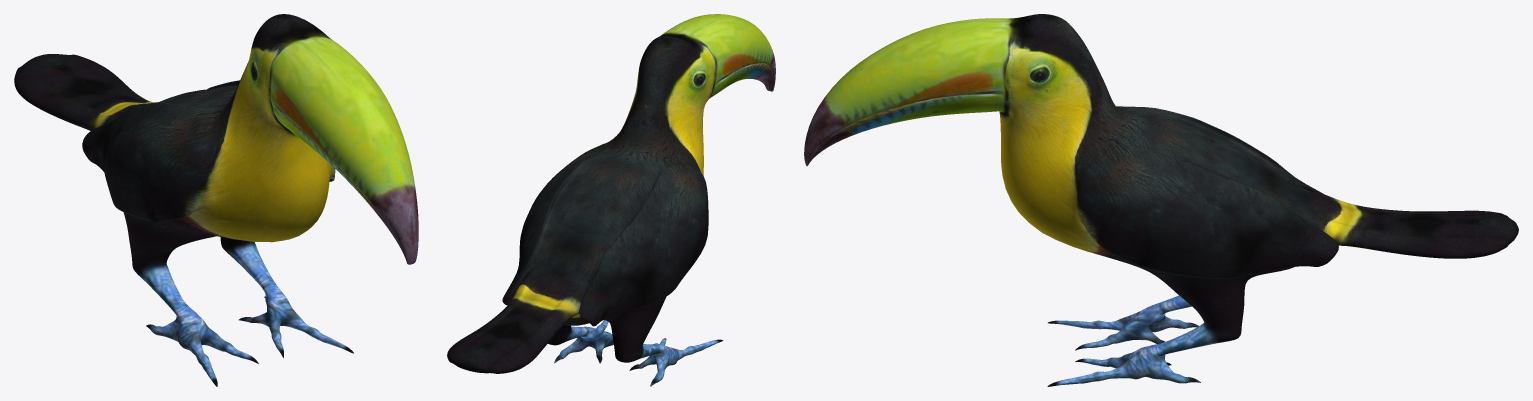
The model's file is Toucan.glb.
3 views of the same model, side by side, from view 1: azimuth 30°, elevation 25°; view 2: azimuth 150°, elevation 25°; view 3: azimuth 270°, elevation 25° (orthographic). The views are drawn at different scales.
Parts seen in each view (by area): view 1: Bird_Toucan; view 2: Bird_Toucan; view 3: Bird_Toucan.
Boxes of the visible parts, box(x1,y1,x2,y2) form: Bird_Toucan: box(14, 14, 418, 386); Bird_Toucan: box(447, 14, 775, 386); Bird_Toucan: box(804, 14, 1518, 386).
Bounding box in the file's own units: 0.7665 × 1.38 × 2.63.
1 material, 1 textured.
